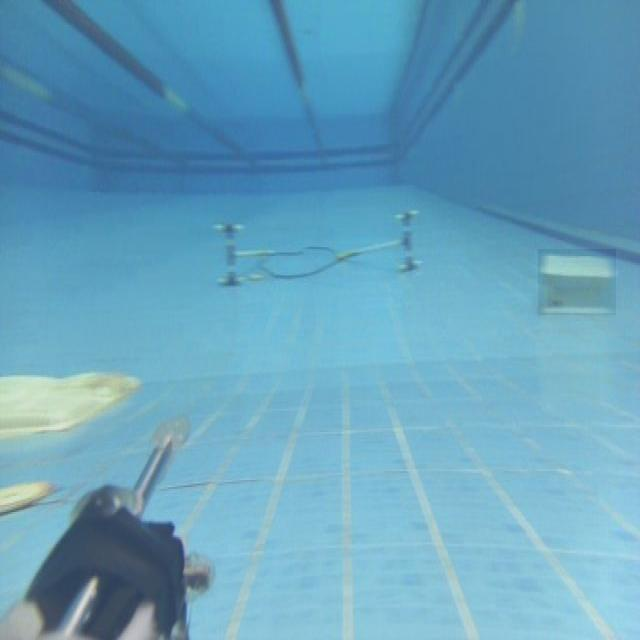Cube: (538, 249, 616, 315)
